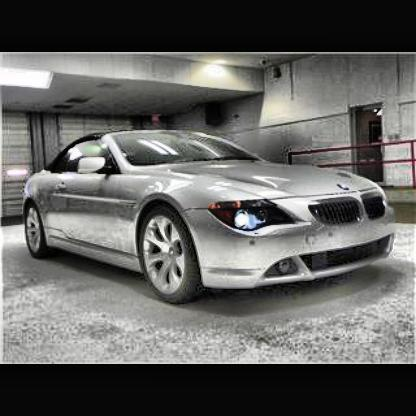BMW 6 Series Convertible 2007: (19, 129, 402, 314)
